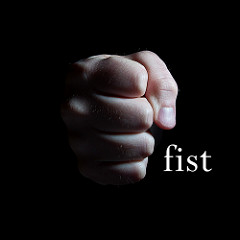fist: (66, 45, 190, 194)
